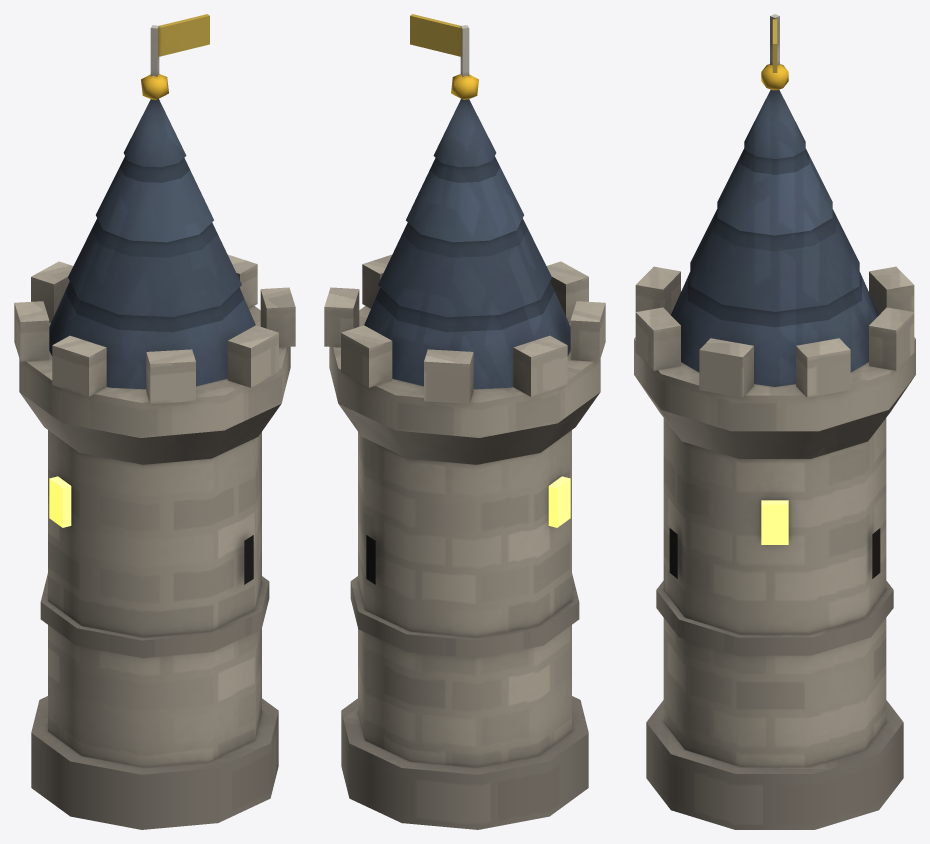
The model's file is fort_l3_post.glb.
3 views of the same model, side by side, from view 1: azimuth 30°, elevation 25°; view 2: azimuth 150°, elevation 25°; view 3: azimuth 270°, elevation 25° (orthographic).
Visible parts, largest first — view 1: fort_l3_post; view 2: fort_l3_post; view 3: fort_l3_post.
Boxes of the visible parts, left/top/right/bottom form: fort_l3_post: left=14, top=14, right=295, bottom=829; fort_l3_post: left=324, top=14, right=605, bottom=829; fort_l3_post: left=634, top=14, right=915, bottom=829.
Bounding box in the file's own units: 0.2252 × 0.68 × 0.228.
Materials: 2 (1 with a texture image).
